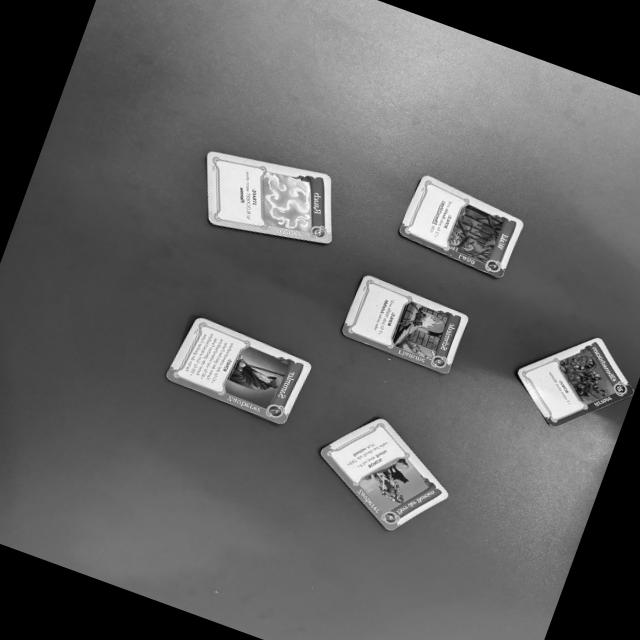Beast Master: (316, 413, 453, 536)
Collector: (161, 313, 315, 427)
Elven Archers: (514, 334, 635, 430)
Forest: (393, 169, 529, 284)
Forge: (339, 272, 472, 376)
Smoke: (202, 144, 334, 245)
